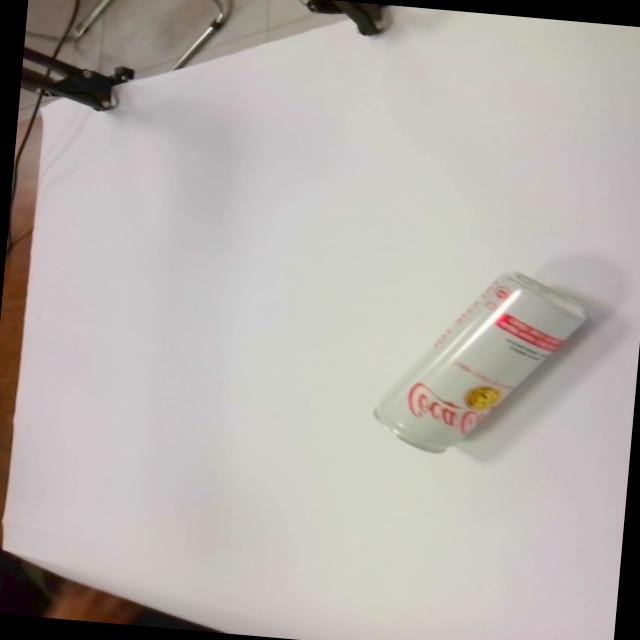debris: (367, 258, 611, 468)
